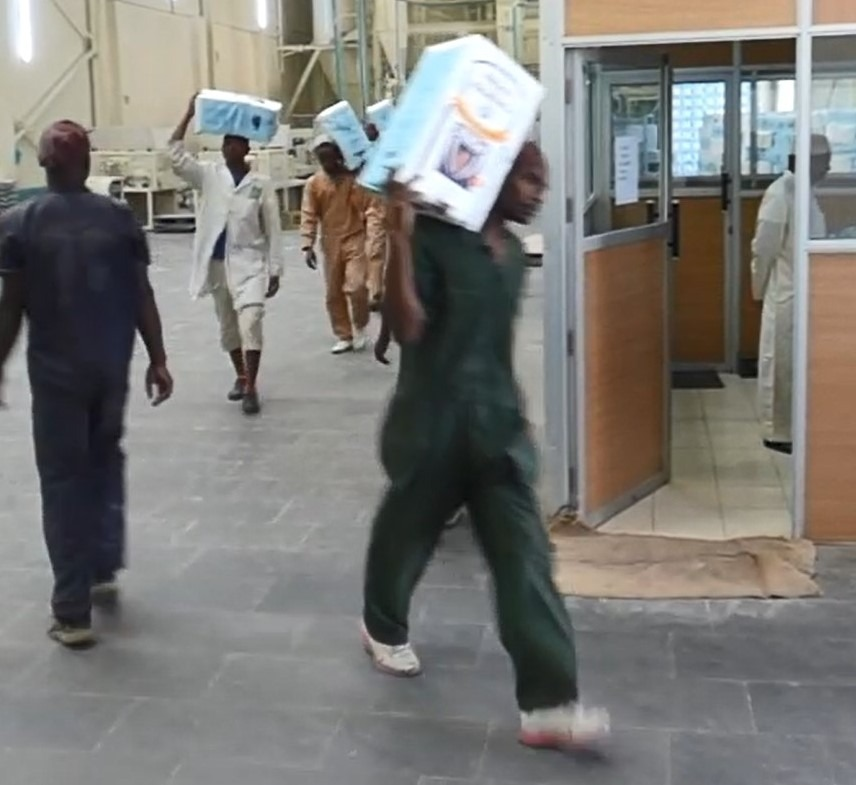wheat_flour_blue_label: (361, 34, 579, 231), (190, 94, 275, 135)
